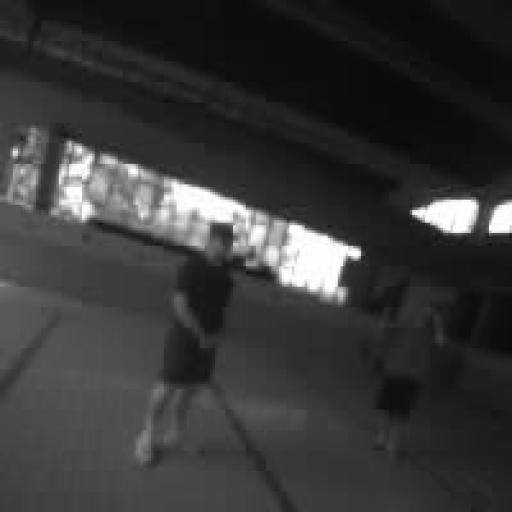human: (134, 223, 232, 465), (374, 305, 445, 455)
